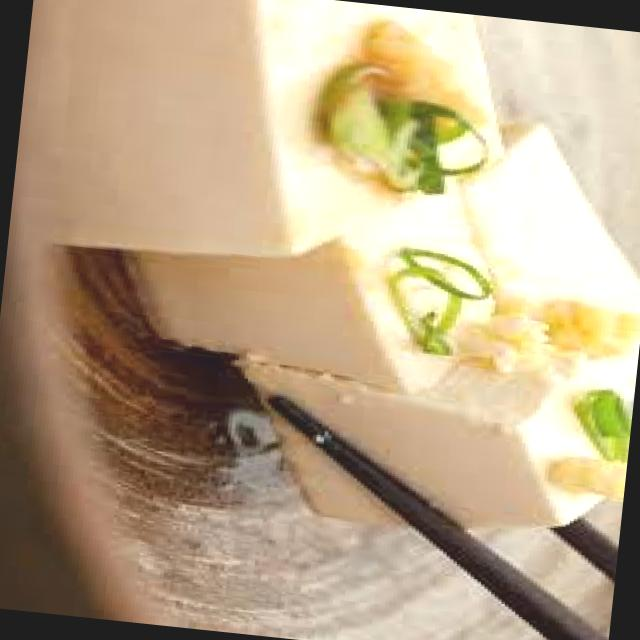tof: (0, 0, 640, 546)
